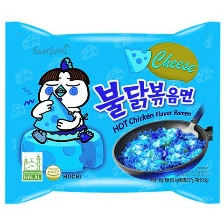snack: (0, 15, 224, 210)
